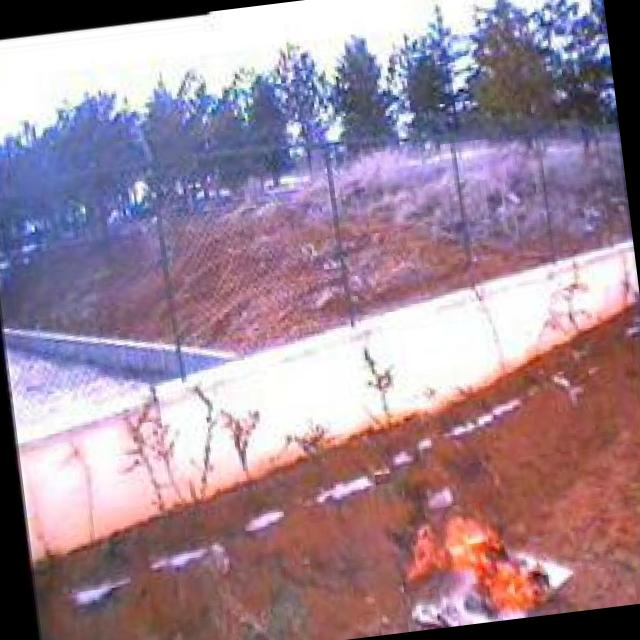Fire: (399, 505, 558, 631)
